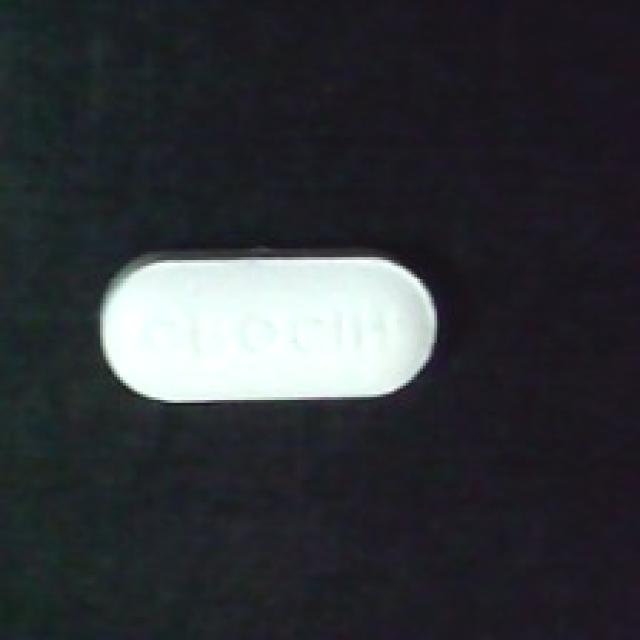no-defect: (91, 243, 449, 409)
